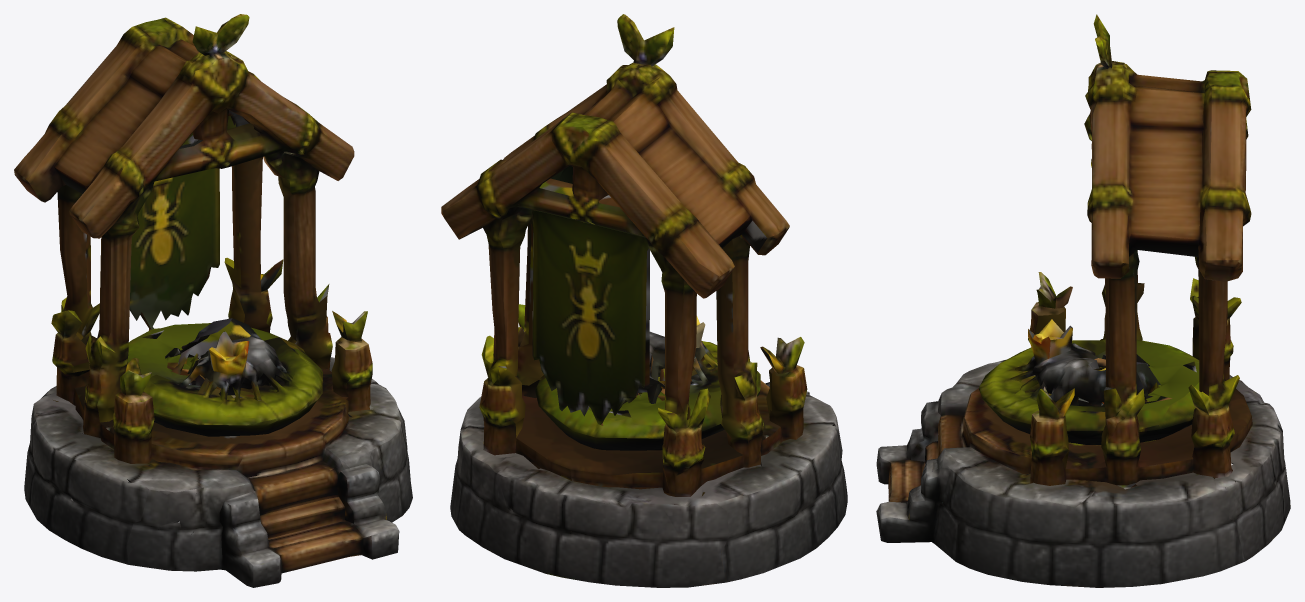
The model's file is Shrine.glb.
3 renders of one model, left to right at view 1: azimuth 30°, elevation 25°; view 2: azimuth 150°, elevation 25°; view 3: azimuth 270°, elevation 25°, orthographic. The views are drawn at different scales.
Bounding box in the file's own units: 1.46 × 1.99 × 1.55.
1 material, 1 textured.
